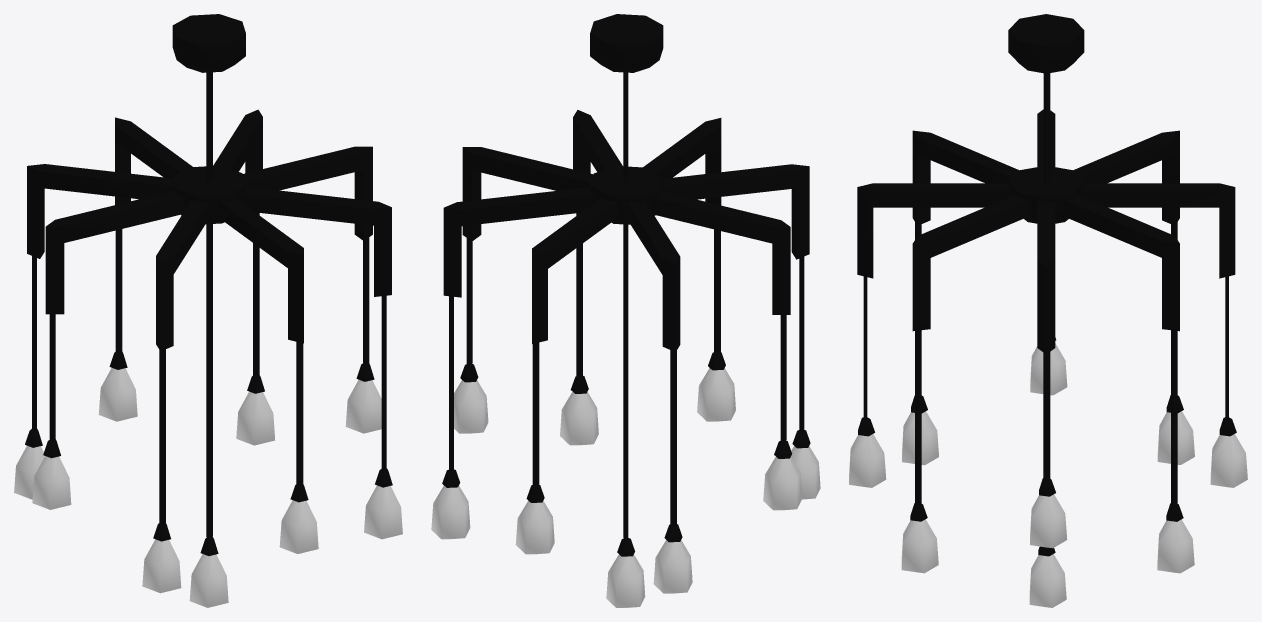
Rendered from ChandelierB_On.glb.
3 renders of one model, left to right at view 1: azimuth 30°, elevation 25°; view 2: azimuth 150°, elevation 25°; view 3: azimuth 270°, elevation 25°, orthographic.
Visible parts, largest first — view 1: modernChandelier; view 2: modernChandelier; view 3: modernChandelier.
Part boxes in pixels (box(x1,y1,x2,y2)): modernChandelier: box(14, 14, 402, 607); modernChandelier: box(431, 14, 820, 607); modernChandelier: box(849, 14, 1247, 607).
Size of the model in its own units: 1.29 by 2.06 by 1.29.
Materials: 1 (1 with a texture image).
